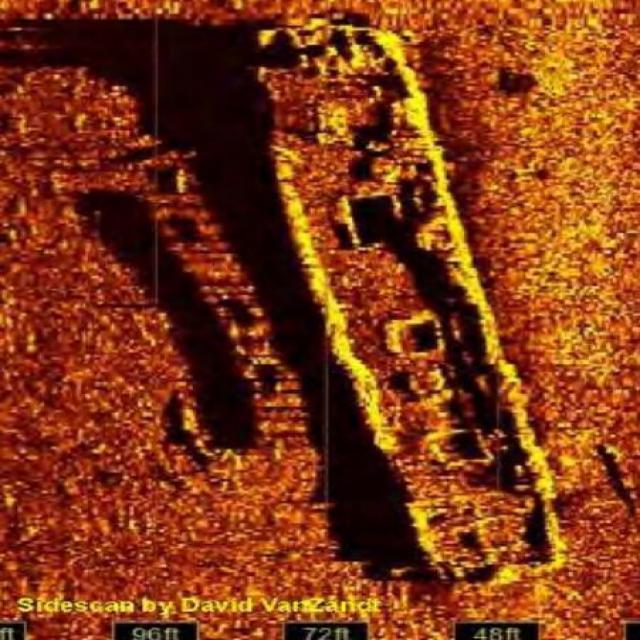shipwreck: (246, 13, 574, 590)
